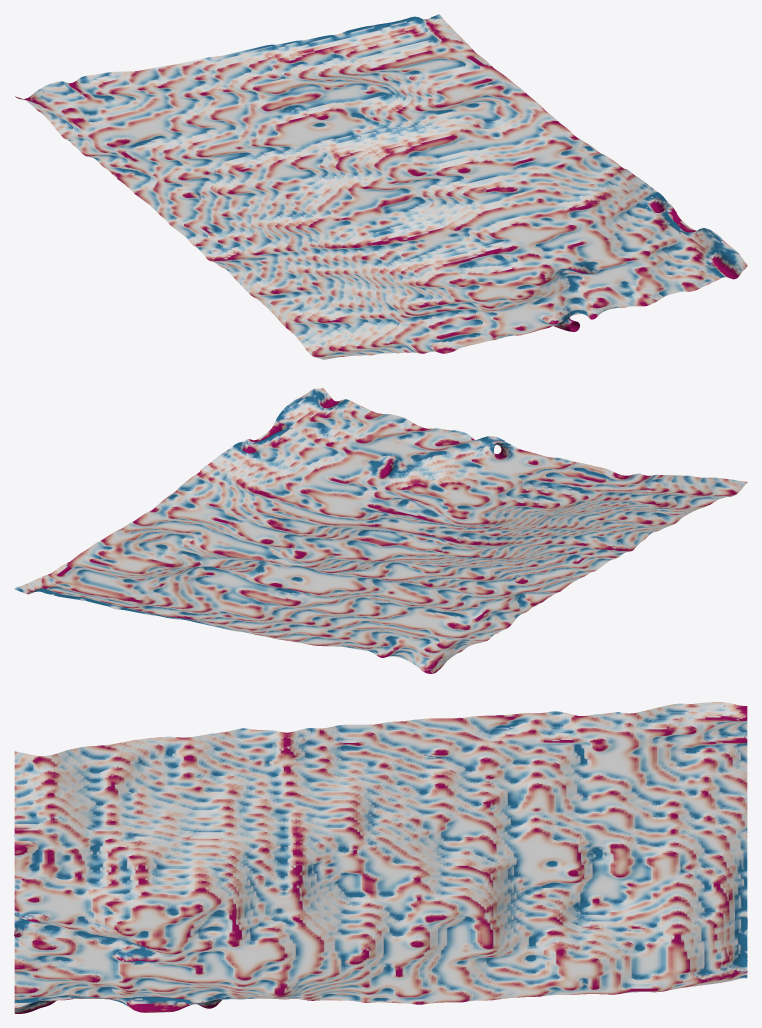
The model's file is crop1126_curvature.glb.
The picture shows the model from 3 angles, top to bottom: view 1: azimuth 30°, elevation 25°; view 2: azimuth 150°, elevation 25°; view 3: azimuth 270°, elevation 25°; orthographic projection. The views are drawn at different scales.
Parts seen in each view (by area): view 1: world; view 2: world; view 3: world.
Part boxes in pixels (x1=…): world: x1=15, y1=14, x2=747, y2=359; world: x1=14, y1=388, x2=747, y2=673; world: x1=14, y1=702, x2=747, y2=1013.
Bounding box in the file's own units: 3079 × 521 × 3880.
